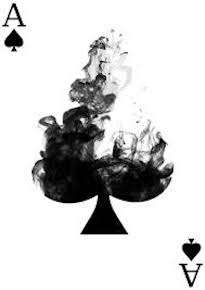AceOfSpades: (2, 1, 202, 287)
